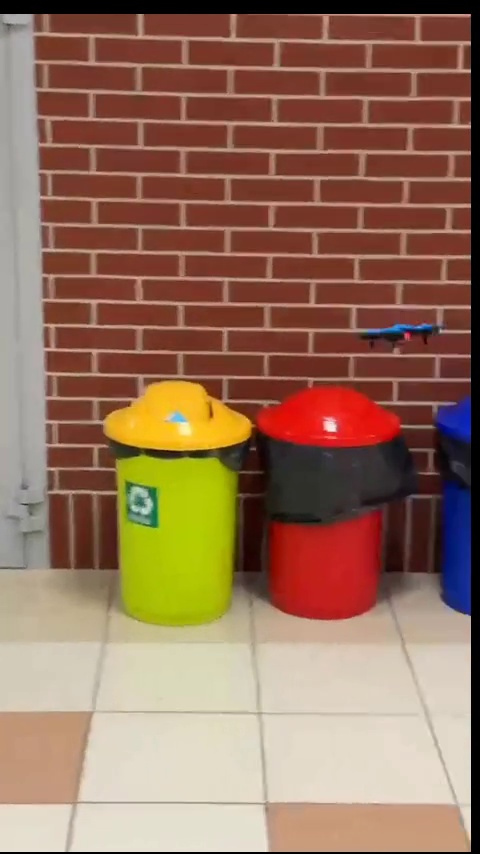drone: (359, 319, 443, 350)
